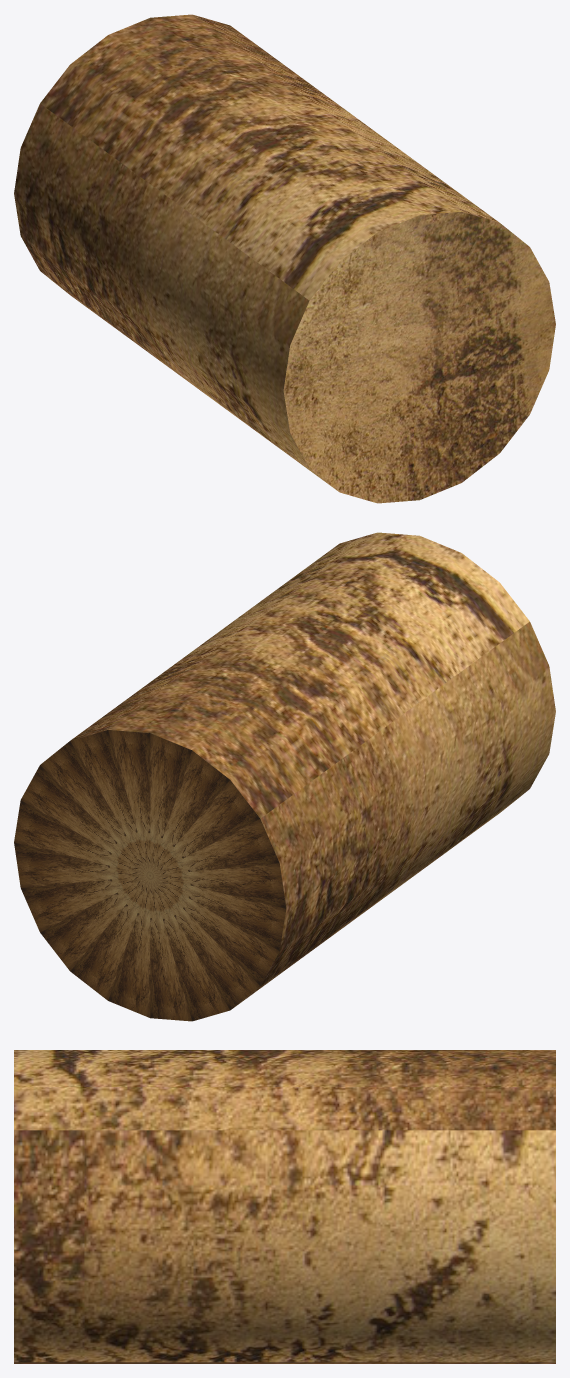
The model's file is shell.fbx.
The picture shows the model from 3 angles, top to bottom: view 1: azimuth 30°, elevation 25°; view 2: azimuth 150°, elevation 25°; view 3: azimuth 270°, elevation 25°; orthographic projection.
Parts seen in each view (by area): view 1: pCylinder1; view 2: pCylinder1; view 3: pCylinder1.
Boxes of the visible parts, box(x1,y1,x2,y2) form: pCylinder1: box(14, 14, 555, 503); pCylinder1: box(14, 532, 555, 1021); pCylinder1: box(14, 1050, 555, 1363).
Bounding box in the file's own units: 2.44 × 2.44 × 4.18.
1 material, 1 textured.
